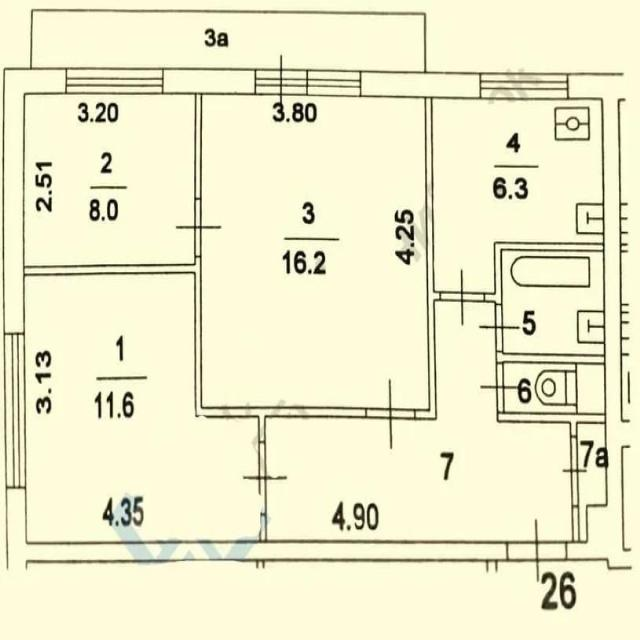Bathrooms: (502, 251, 604, 353), (505, 364, 605, 412), (622, 316, 633, 419)
Corridors: (267, 301, 572, 540), (30, 9, 426, 71), (579, 424, 606, 541), (623, 449, 635, 549), (621, 252, 631, 304)
Doors: (507, 519, 568, 584), (365, 376, 416, 451), (242, 441, 289, 516), (254, 54, 307, 110), (175, 197, 222, 258), (440, 267, 485, 326), (480, 362, 522, 414), (562, 436, 591, 508), (478, 303, 521, 351)
LBwalls: (5, 489, 507, 574), (566, 71, 633, 572), (3, 67, 67, 335), (361, 71, 481, 99), (164, 67, 256, 95)
Offices: (202, 94, 428, 409), (25, 274, 260, 541), (433, 99, 603, 292), (24, 95, 195, 265), (620, 102, 630, 242)
Walls: (24, 256, 366, 442), (415, 98, 441, 421), (484, 241, 604, 304), (496, 411, 606, 437), (495, 352, 605, 364), (194, 94, 202, 197), (572, 506, 580, 541), (260, 514, 267, 540), (486, 561, 498, 574), (256, 560, 265, 569), (621, 244, 629, 253), (622, 304, 629, 314)
Windows: (3, 332, 27, 489), (66, 67, 164, 95), (480, 72, 569, 100), (306, 69, 362, 97)
